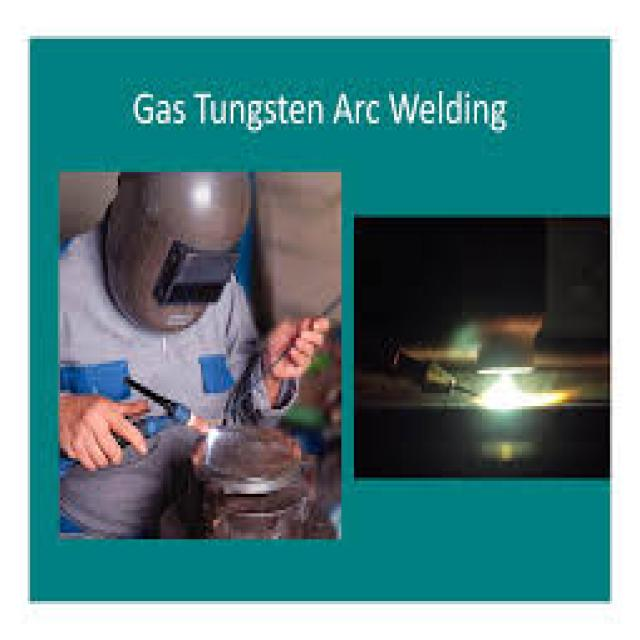welding: (473, 370, 542, 412), (207, 425, 220, 446)
